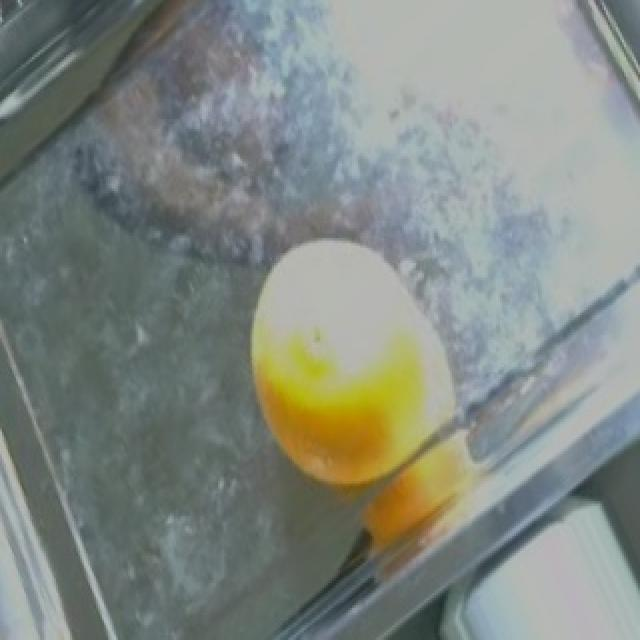Fruit: (232, 266, 460, 514)
